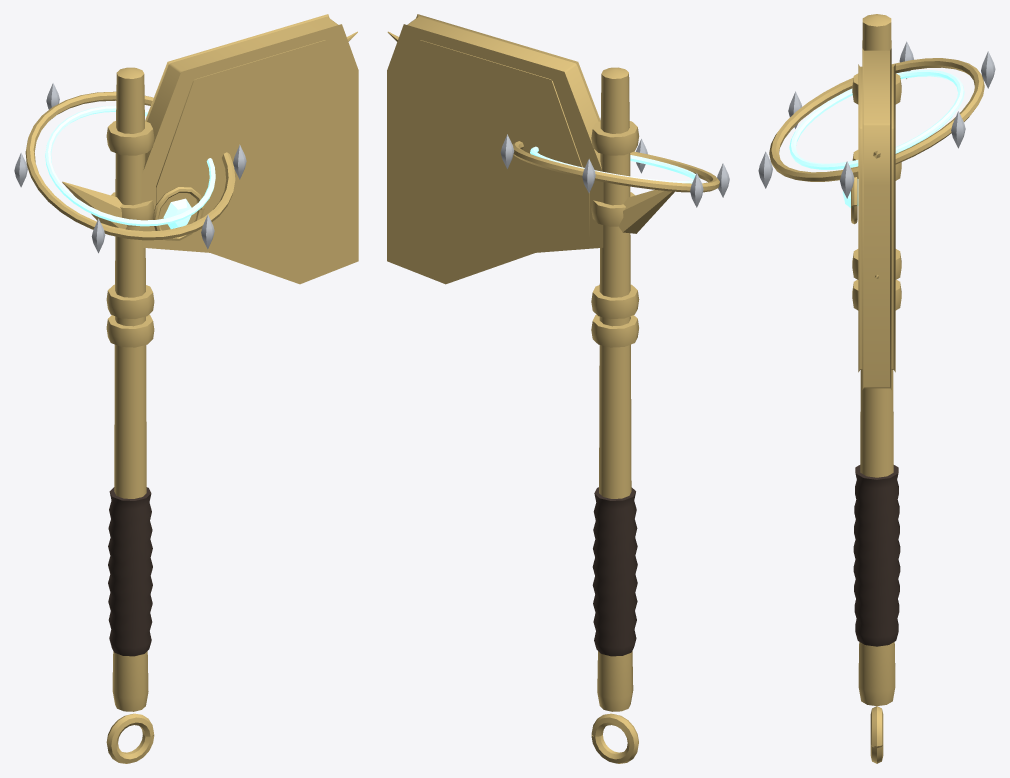
File: esc_w_knight_axe_3.glb
3 renders of one model, left to right at view 1: azimuth 30°, elevation 25°; view 2: azimuth 150°, elevation 25°; view 3: azimuth 270°, elevation 25°, orthographic. The views are drawn at different scales.
Parts seen in each view (by area): view 1: esc_w_knight_axe_3; view 2: esc_w_knight_axe_3; view 3: esc_w_knight_axe_3.
Part boxes in pixels (x1=…): esc_w_knight_axe_3: x1=14, y1=14, x2=358, y2=763; esc_w_knight_axe_3: x1=387, y1=14, x2=729, y2=763; esc_w_knight_axe_3: x1=758, y1=14, x2=995, y2=763.
Bounding box in the file's own units: 0.4847 × 0.9771 × 0.2817.
